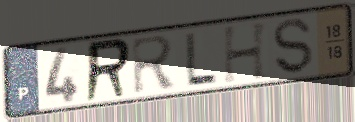4: (42, 44, 82, 106)
H: (220, 18, 271, 86)
L: (183, 30, 219, 87)
R: (83, 35, 134, 105), (129, 32, 180, 97)
S: (271, 17, 316, 76)
